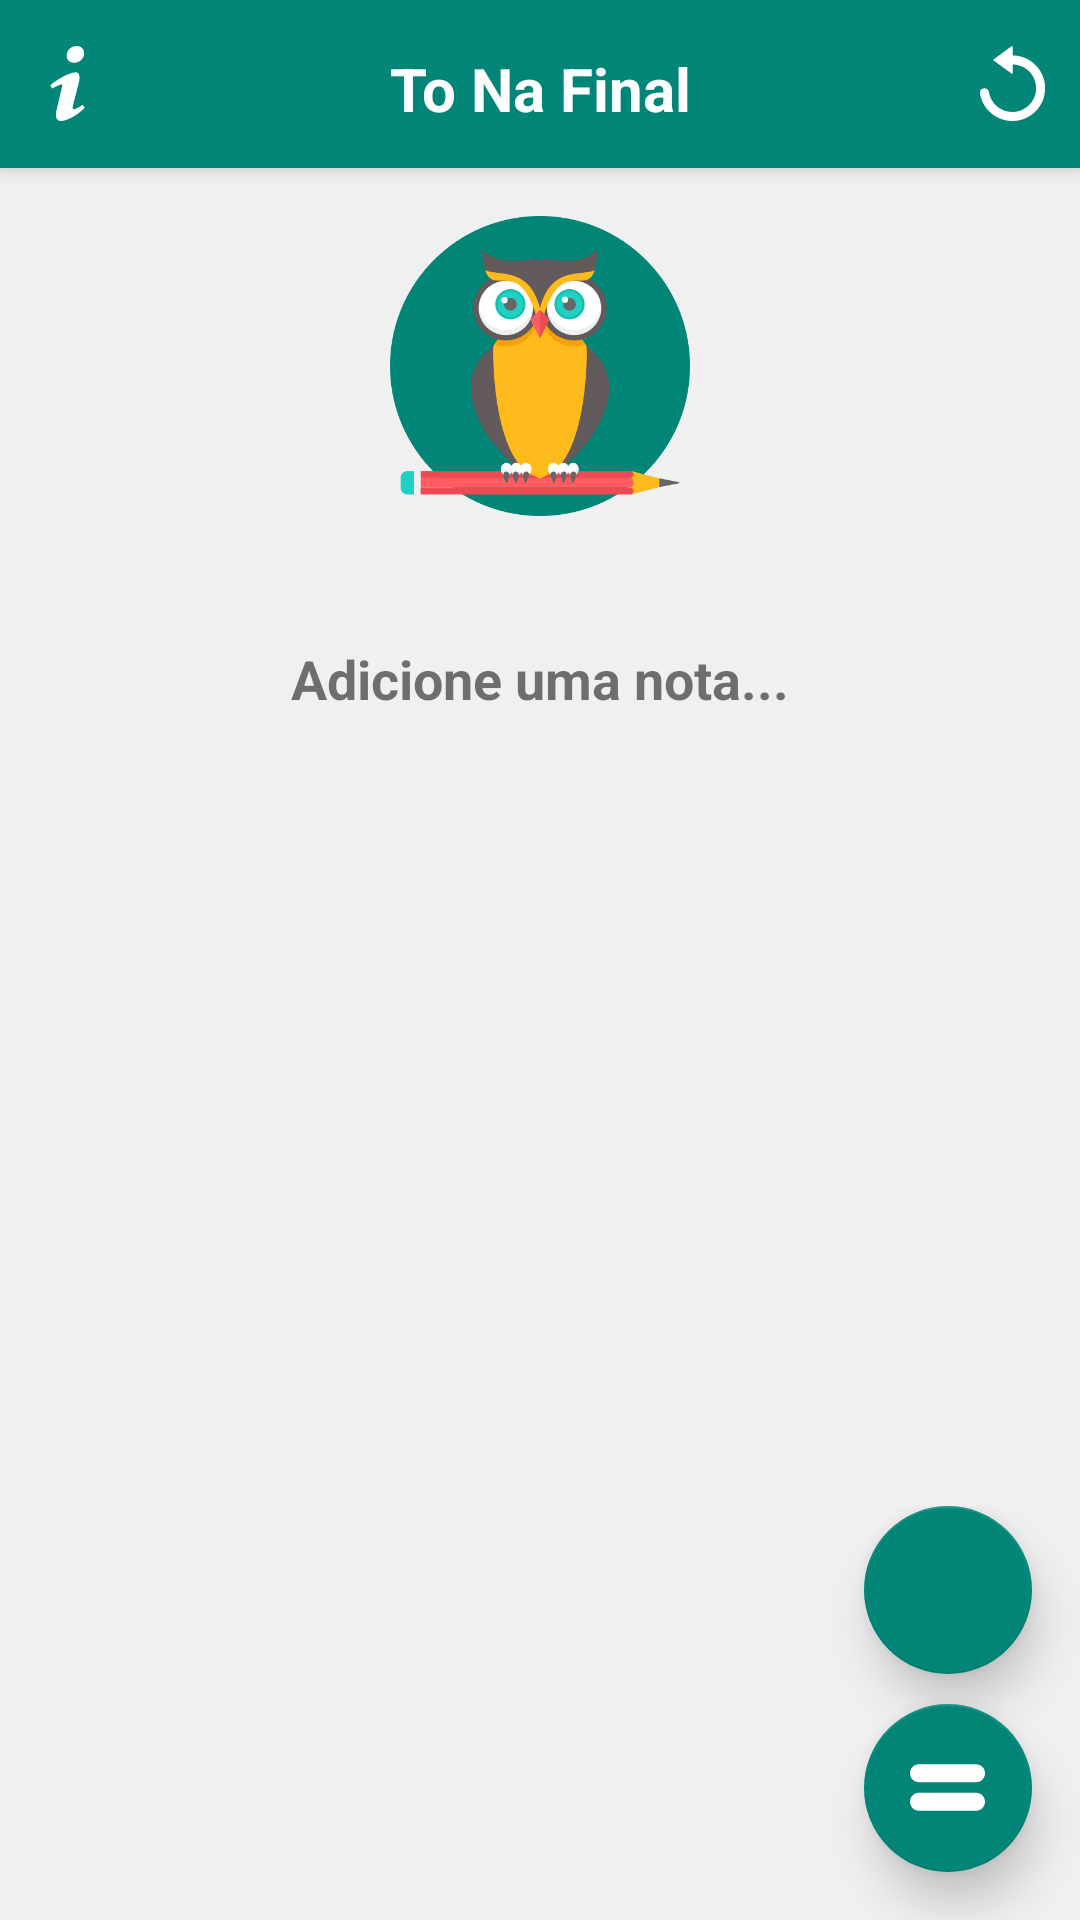

Icons on this 1080*1920 Android screen, each with the point to tap as (x=x, y=y):
equal: (x=948, y=1788)
info: (x=67, y=83)
reload: (x=1012, y=83)
